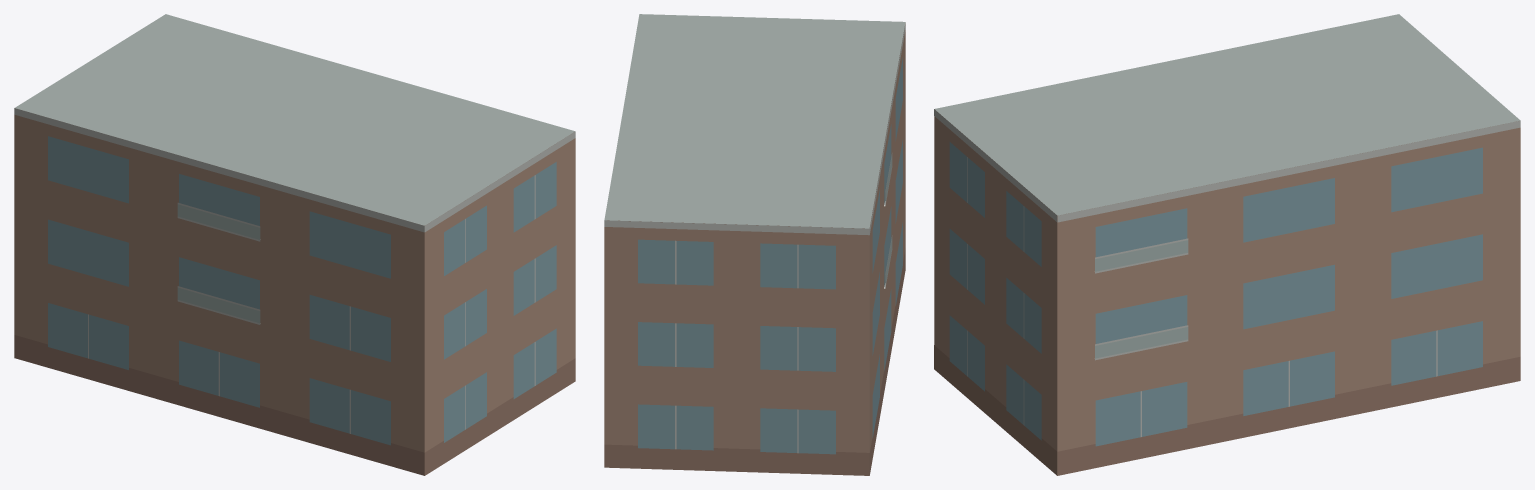
The model's file is survey-upis-32708295.glb.
3 views of the same model, side by side, from view 1: azimuth 30°, elevation 25°; view 2: azimuth 150°, elevation 25°; view 3: azimuth 270°, elevation 25° (orthographic). The views are drawn at different scales.
Visible parts, largest first — view 1: survey-upis-32708295.tmp; view 2: survey-upis-32708295.tmp; view 3: survey-upis-32708295.tmp.
Part boxes in pixels (<box>): survey-upis-32708295.tmp: <box>14,14,575,475</box>; survey-upis-32708295.tmp: <box>604,14,905,475</box>; survey-upis-32708295.tmp: <box>934,14,1520,475</box>.
Size of the model in its own units: 15.21 by 9.15 by 18.7.
